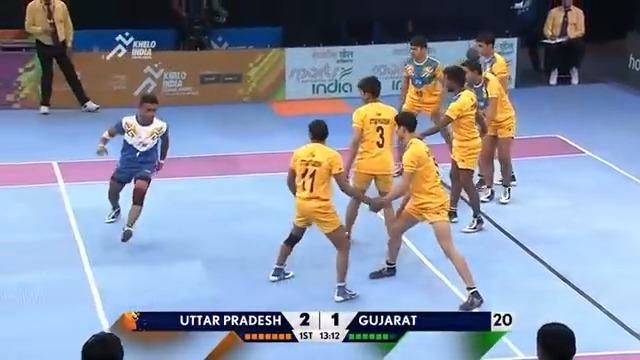Player: (360, 110, 485, 311), (267, 116, 366, 303), (342, 75, 411, 236), (448, 73, 485, 218), (391, 40, 434, 123), (477, 39, 521, 108)
Raider: (94, 90, 172, 244)
referee: (23, 0, 100, 114), (540, 0, 586, 85)
